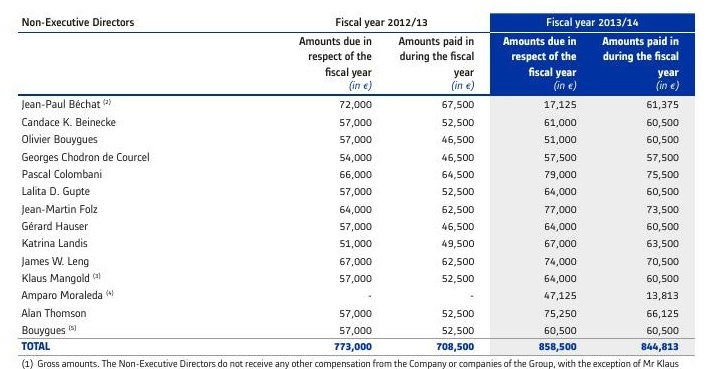table: (0, 0, 706, 369)
